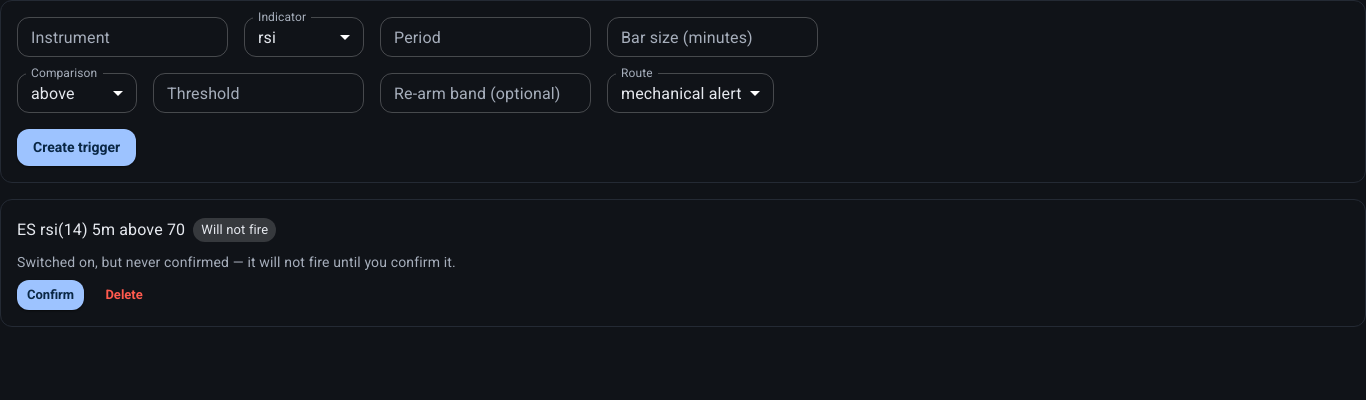
TriggersSurface › confirm — the invariants both row actions share › a refused result surfaces its message and leaves the row standing
This screenshot has width=1366, height=400.
Step 1. Click the button "Confirm " → (51, 295), box [17,280,84,310]
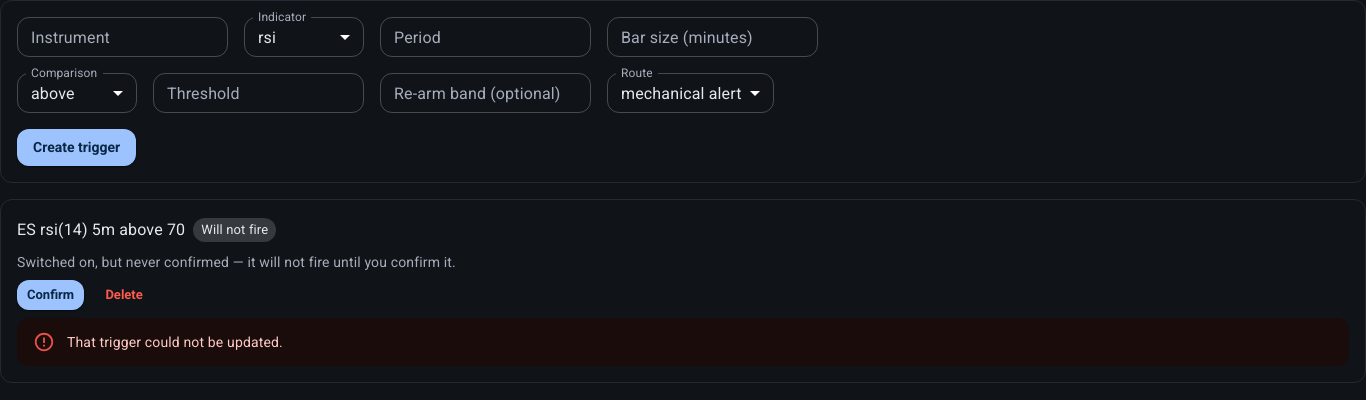
Expected: the element with test id "trigger-row" is shown, [0,198,1365,383]
Now the message reads "That trigger could not be updated.", box [67,334,283,350]
